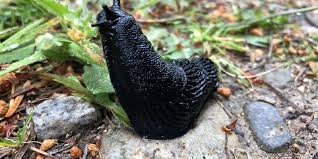slug: (84, 1, 219, 137)
